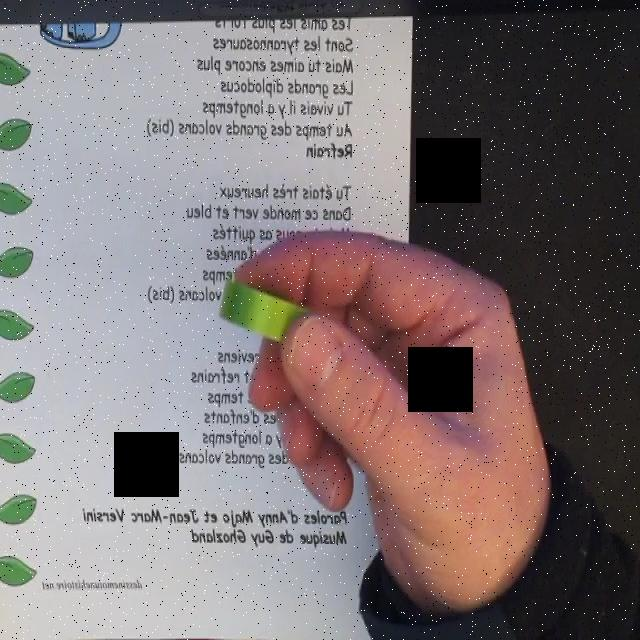round: (218, 279, 326, 349)
